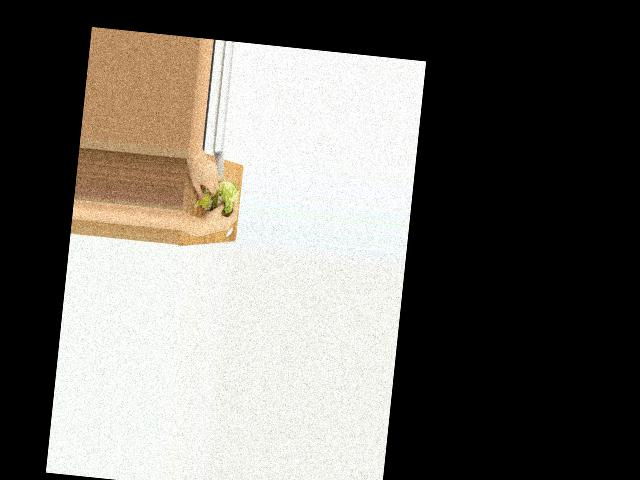lettuce: (213, 179, 239, 215)
